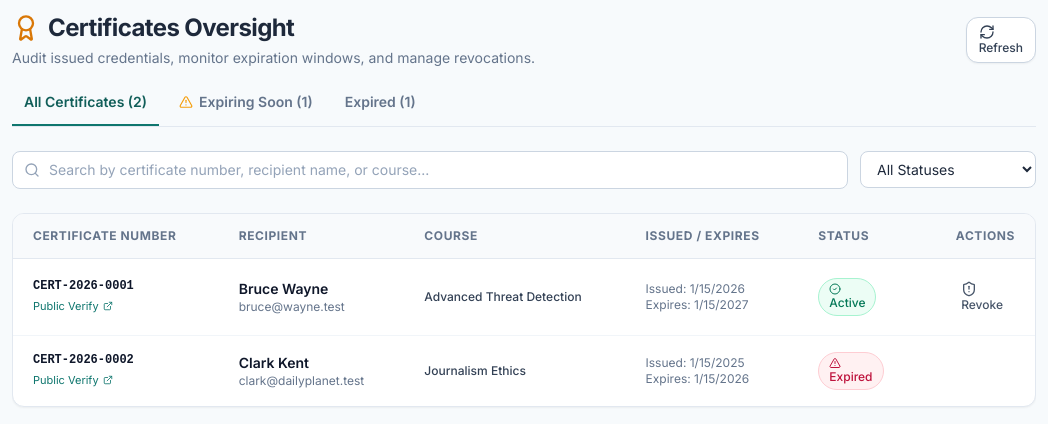
Scenario: AdminCertificatesPage › filters certificates by search term
The width and height of the screenshot is (1048, 424).
Expected: the text "Bruce Wayne" is shown, top-left (239, 280), bottom-right (328, 297)
Type "Clark" into the field named "Search certificates".
click(430, 170); type("Clark")  # box top-left (12, 151), bottom-right (848, 189)
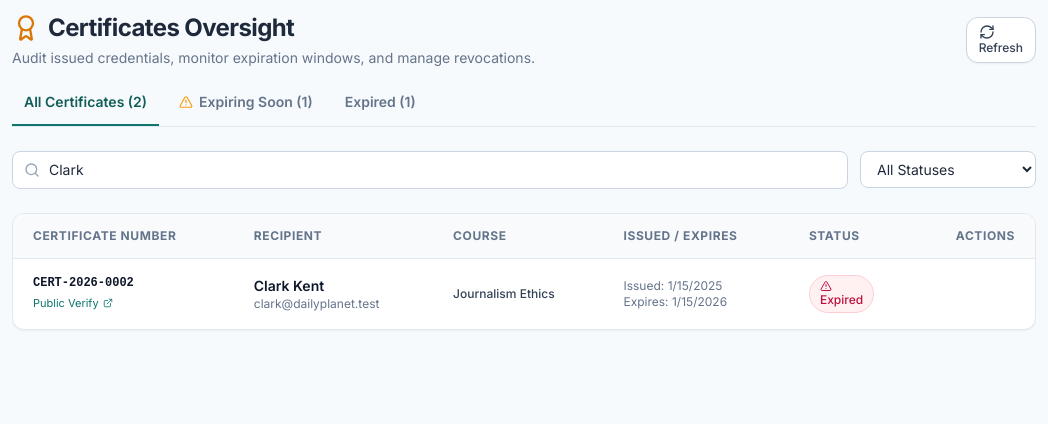
Expected: the text "Clark Kent" is shown, top-left (254, 277), bottom-right (324, 294)
Expected: the text "Bruce Wayne" is gone
